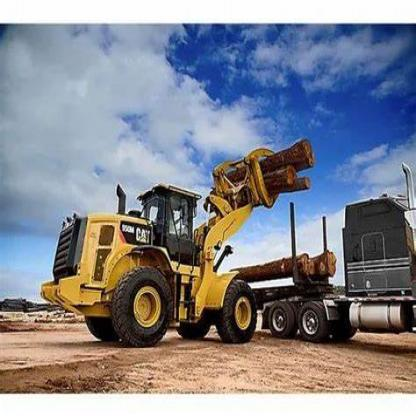bull_dozer/loader/grader: (37, 148, 272, 348)
